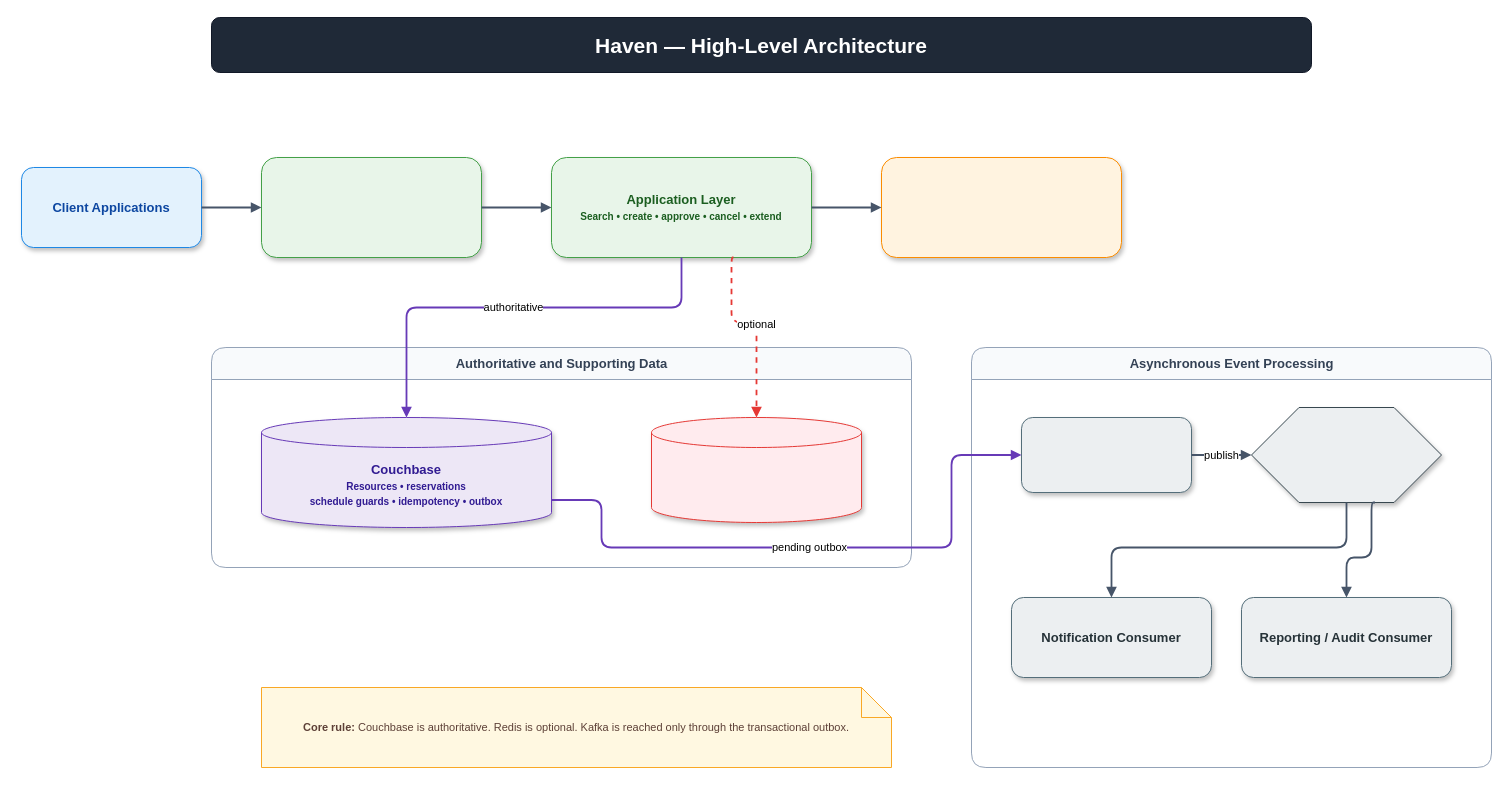
This 1509x785 diagram has some shape labels left out. Each missing label, with the centre of its shape:
"Domain Layer Policies • lifecycle • overlap rules" goes at point (1002, 208).
"Drogon REST API Auth • validation • rate limits" goes at point (372, 208).
"Kafka haven.reservation.events.v1" goes at point (1347, 456).
"Outbox Relay" goes at point (1107, 456).
"Redis Cache • rate limiting Never a correctness boundary" goes at point (757, 471).
